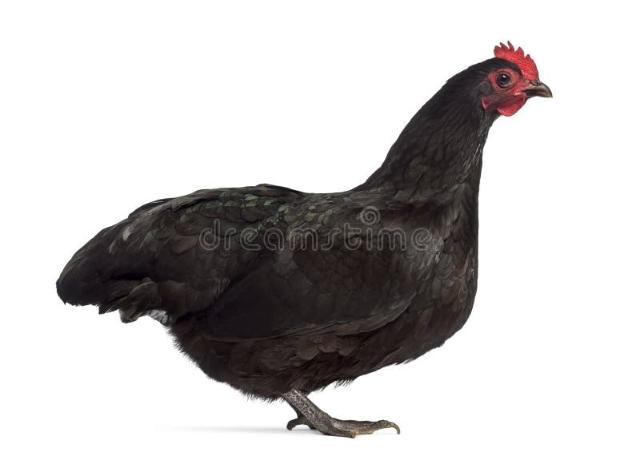Chicken: (57, 38, 554, 440)
